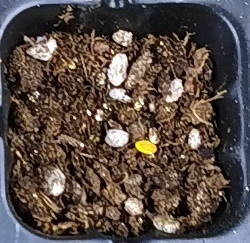pepper seed: (54, 61, 214, 216)
